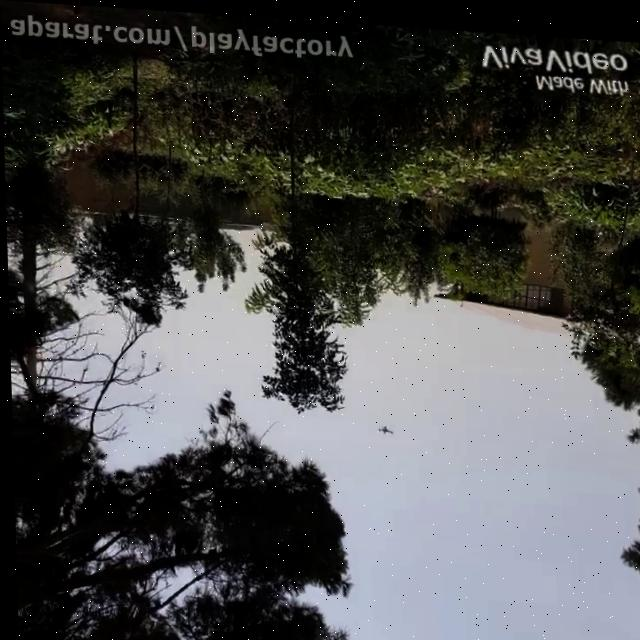drone: (372, 418, 395, 437)
